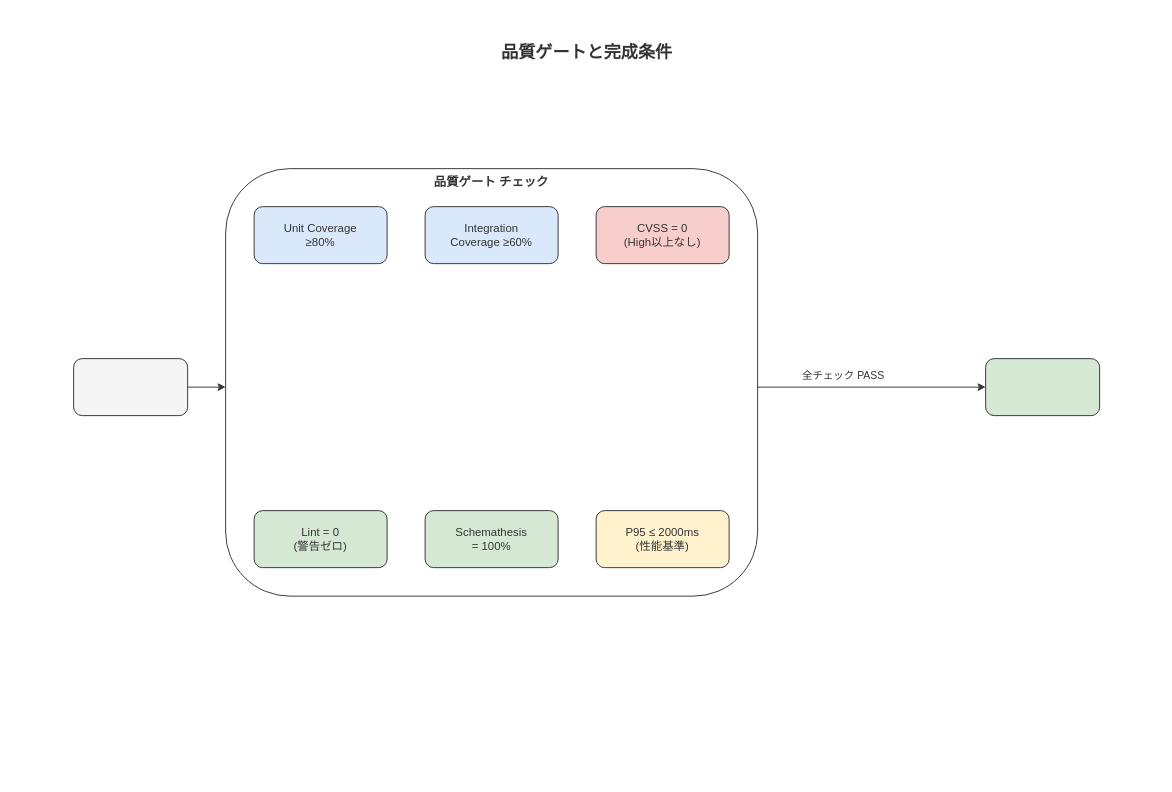
This 1172x792 diagram has some shape labels left out. Here are the shapes that lost their labels. From the top down, the centre of each, then its label:
At point (130, 387): "Code".
At point (1042, 387): "Merge OK".
